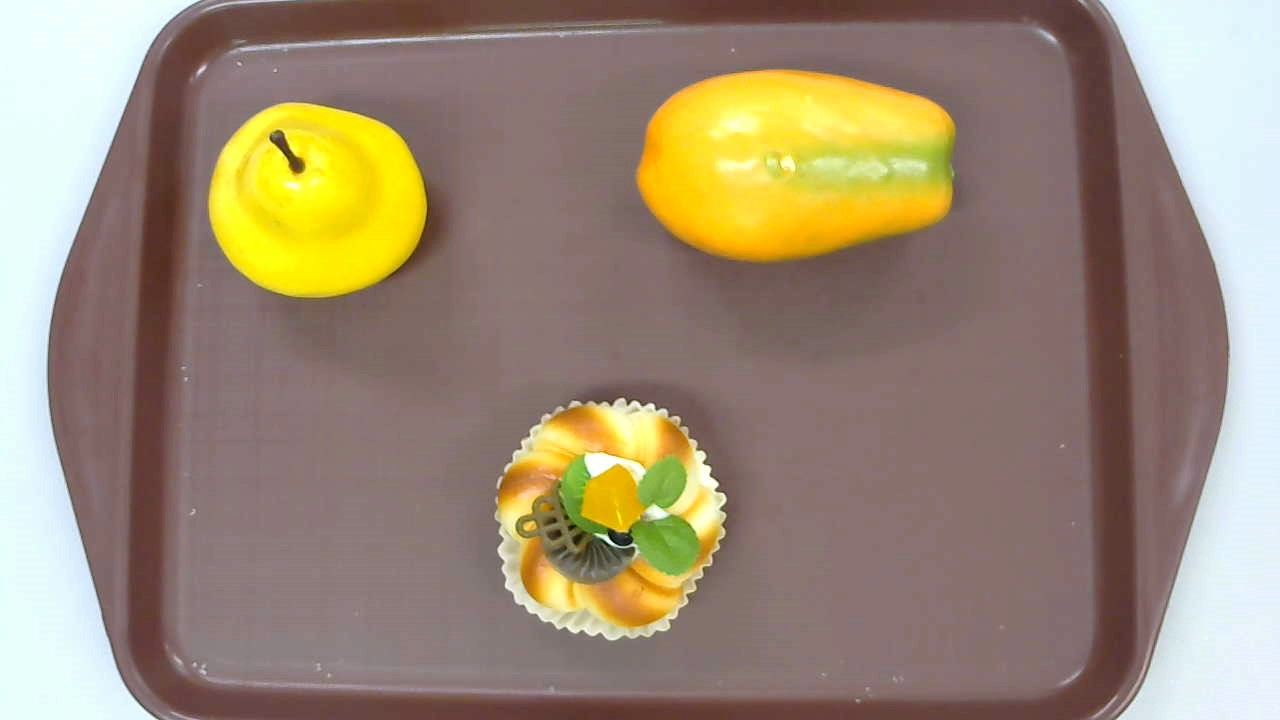fruit tart: (493, 396, 729, 644)
papya: (635, 69, 955, 263)
yellow pear: (208, 103, 428, 300)
